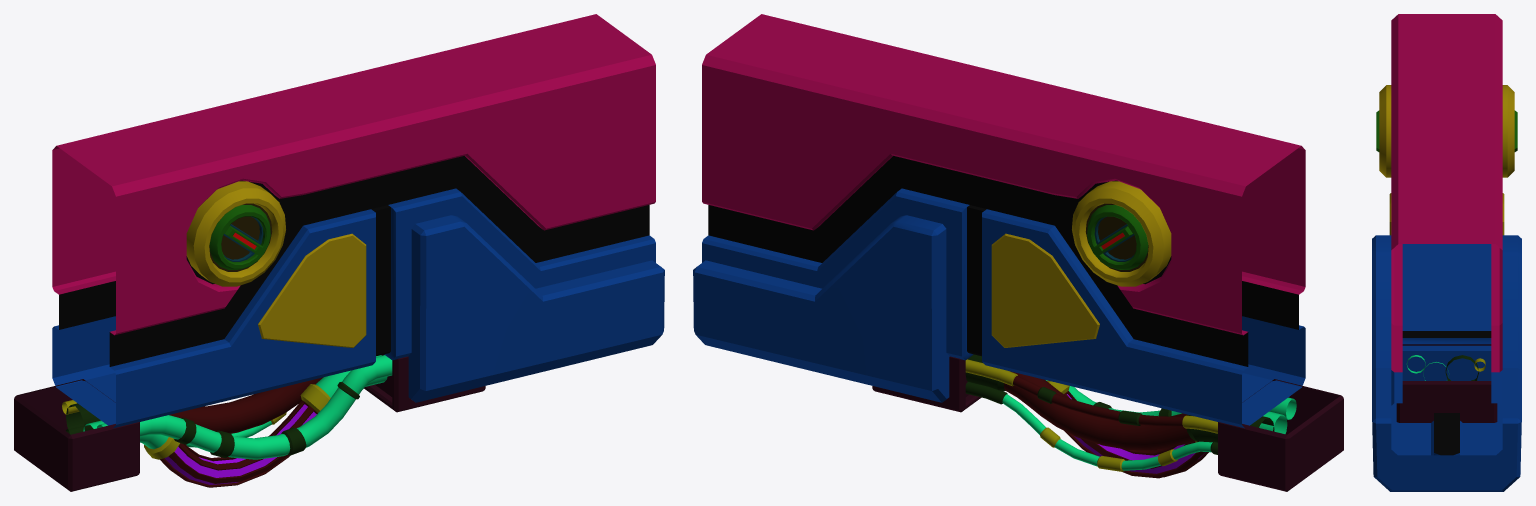
The model's file is OBJ_Bloc_Cable.fbx.
The picture shows the model from 3 angles, left to right: view 1: azimuth 30°, elevation 25°; view 2: azimuth 150°, elevation 25°; view 3: azimuth 270°, elevation 25°; orthographic projection. The views are drawn at different scales.
Visible parts, largest first — view 1: OBJ_Bloc_Cable_LP; view 2: OBJ_Bloc_Cable_LP; view 3: OBJ_Bloc_Cable_LP.
Boxes of the visible parts, x1,y1,x2,y2 form: OBJ_Bloc_Cable_LP: (14,14,664,491); OBJ_Bloc_Cable_LP: (693,14,1343,491); OBJ_Bloc_Cable_LP: (1372,14,1521,491).
Bounding box in the file's own units: 51.83 × 29.62 × 13.21.
